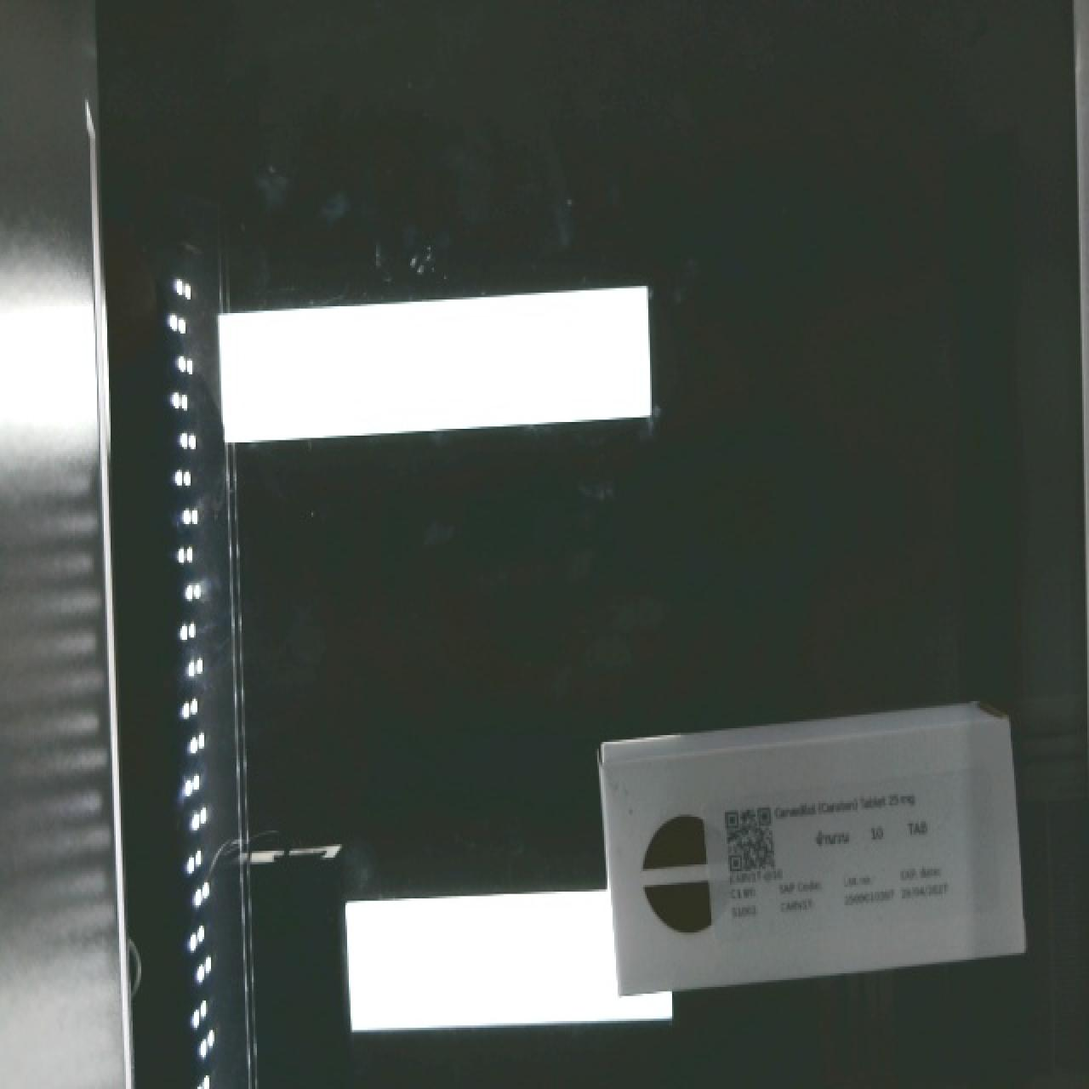qr_code: (713, 795, 785, 878)
